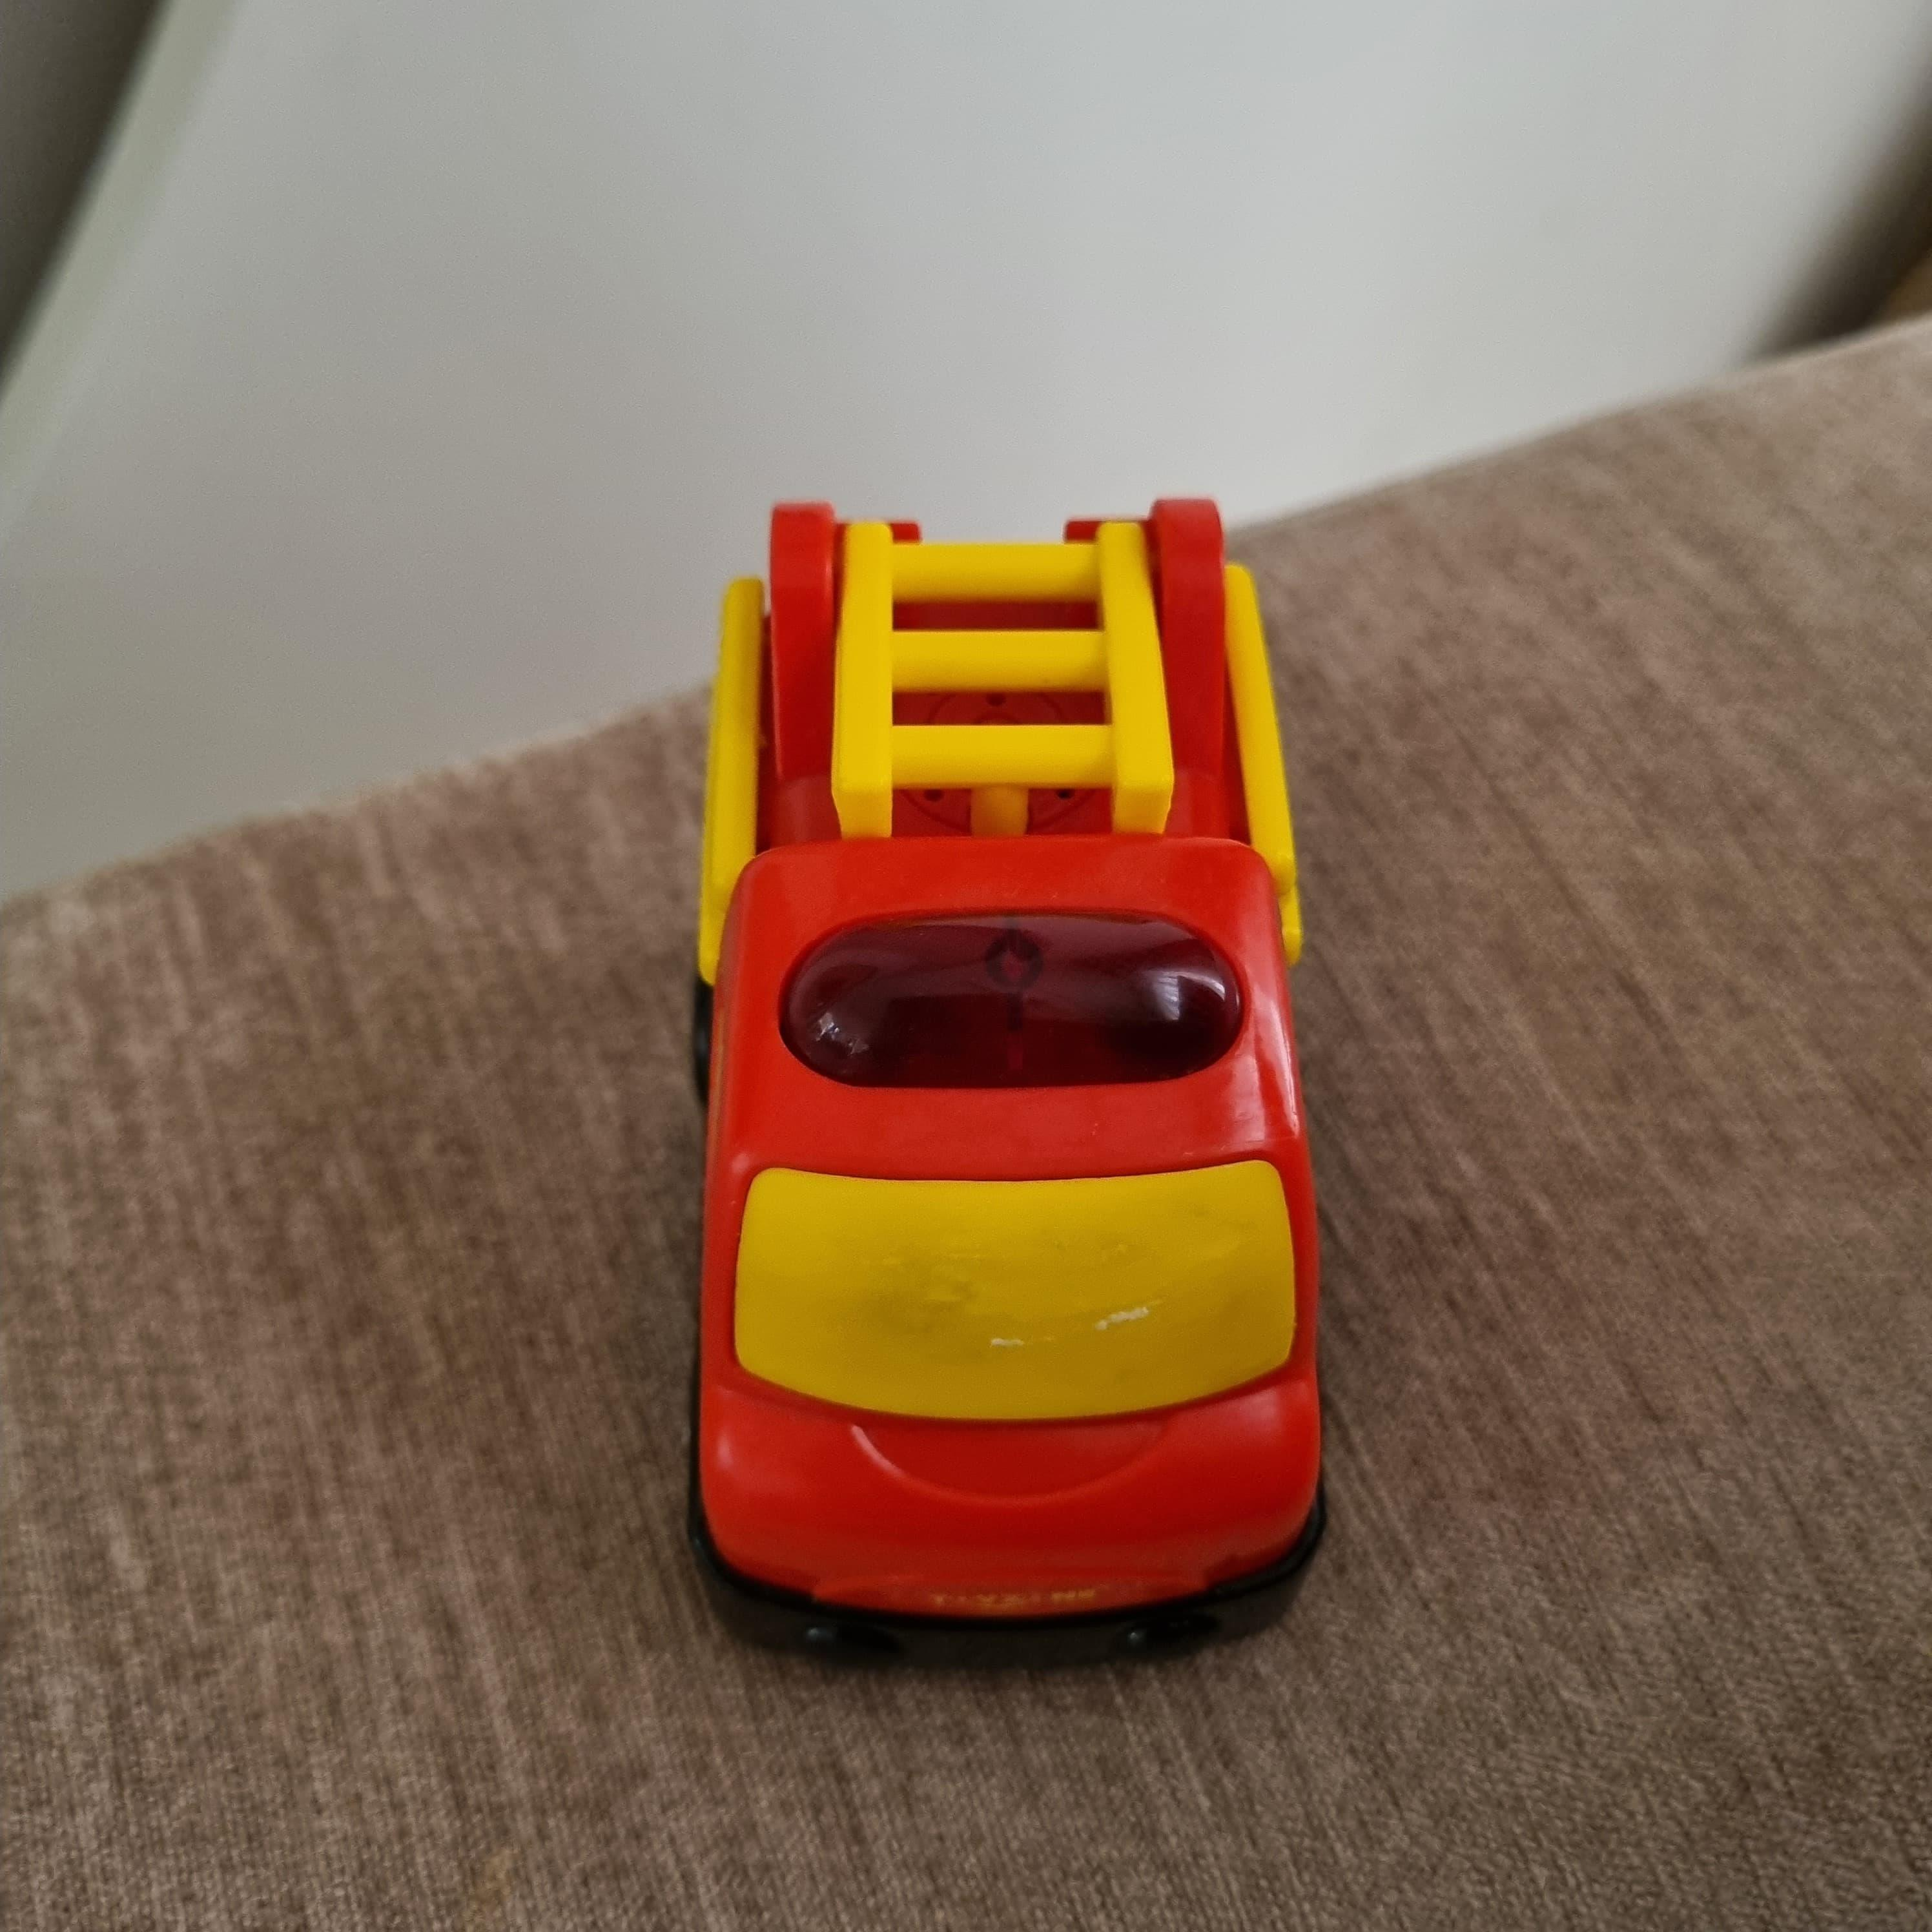firetruck_off: (685, 488, 1343, 1651)
